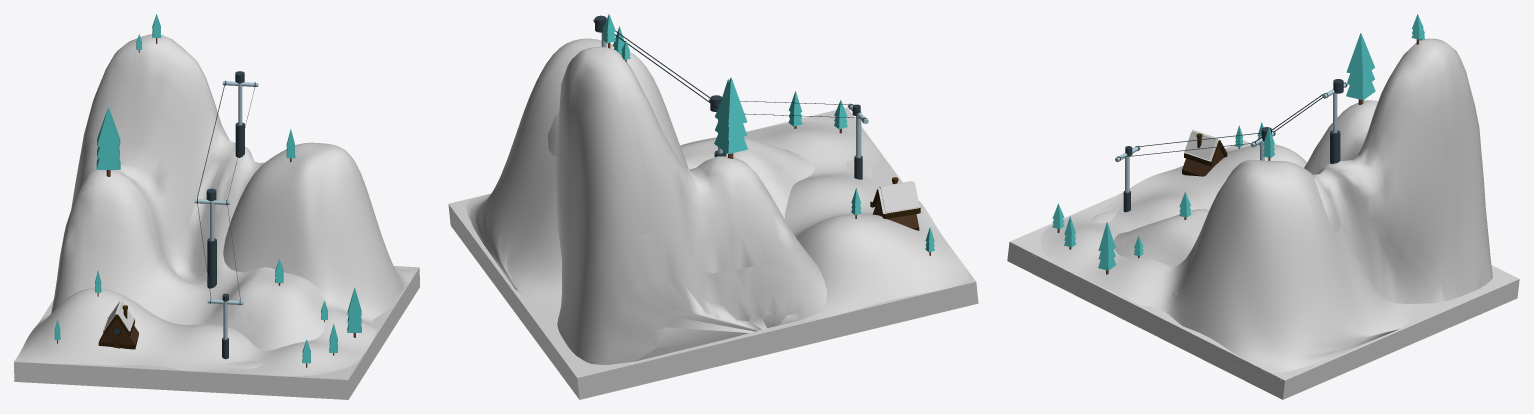
Rendered from env3.gltf.
The picture shows the model from 3 angles, left to right: view 1: azimuth 30°, elevation 25°; view 2: azimuth 150°, elevation 25°; view 3: azimuth 270°, elevation 25°; orthographic projection. The views are drawn at different scales.
Visible parts, largest first — view 1: Cube.001, Cube.002, Cube, Cube.036, Cube.003, Cube.049, Cylinder.005; view 2: Cube.001, Cube.002, Cube, Cube.049, Cube.003; view 3: Cube.002, Cube.001, Cube, Cube.049, Cube.003, Cube.036.
Boxes of the visible parts, x1,y1,x2,y2 form: Cube.001: (51, 34, 360, 368); Cube.002: (18, 142, 417, 375); Cube: (14, 266, 419, 399); Cube.036: (98, 319, 138, 349); Cube.003: (97, 107, 120, 146); Cube.049: (103, 301, 134, 335); Cylinder.005: (207, 238, 216, 288); Cube.001: (548, 47, 872, 364); Cube.002: (466, 38, 968, 320); Cube: (448, 107, 978, 399); Cube.049: (870, 181, 920, 218); Cube.003: (715, 77, 747, 126); Cube.002: (1032, 144, 1413, 380); Cube.001: (1091, 38, 1492, 303); Cube: (1007, 140, 1519, 399); Cube.049: (1184, 130, 1227, 166); Cube.003: (1346, 33, 1374, 76); Cube.036: (1182, 146, 1224, 176).
Size of the model in its own units: 324 by 210 by 324.
